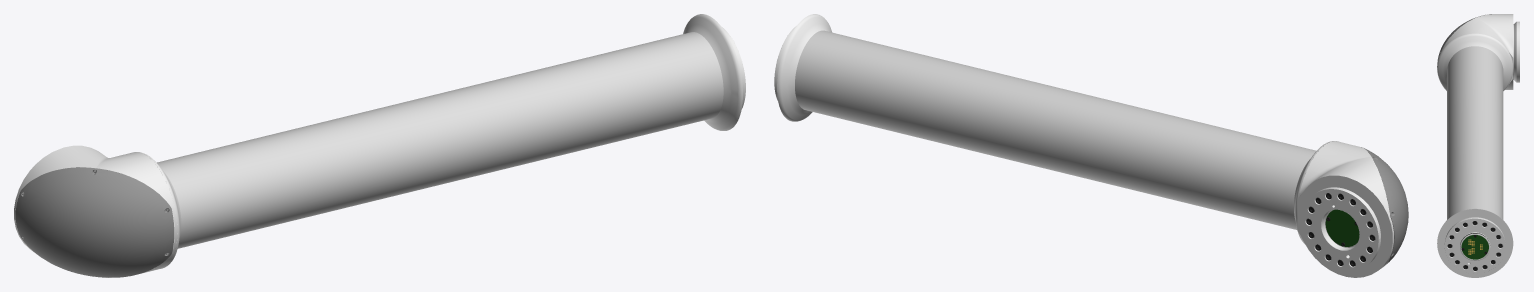
3 views of the same model, side by side, from view 1: azimuth 30°, elevation 25°; view 2: azimuth 150°, elevation 25°; view 3: azimuth 270°, elevation 25° (orthographic). The views are drawn at different scales.
Parts seen in each view (by area): view 1: L116.001; view 2: L116.001; view 3: L116.001.
Boxes of the visible parts, x1=… form: L116.001: x1=14, y1=14, x2=745, y2=277; L116.001: x1=774, y1=14, x2=1408, y2=277; L116.001: x1=1437, y1=14, x2=1519, y2=277.
Bounding box in the file's own units: 0.7627 × 0.116 × 0.126.
